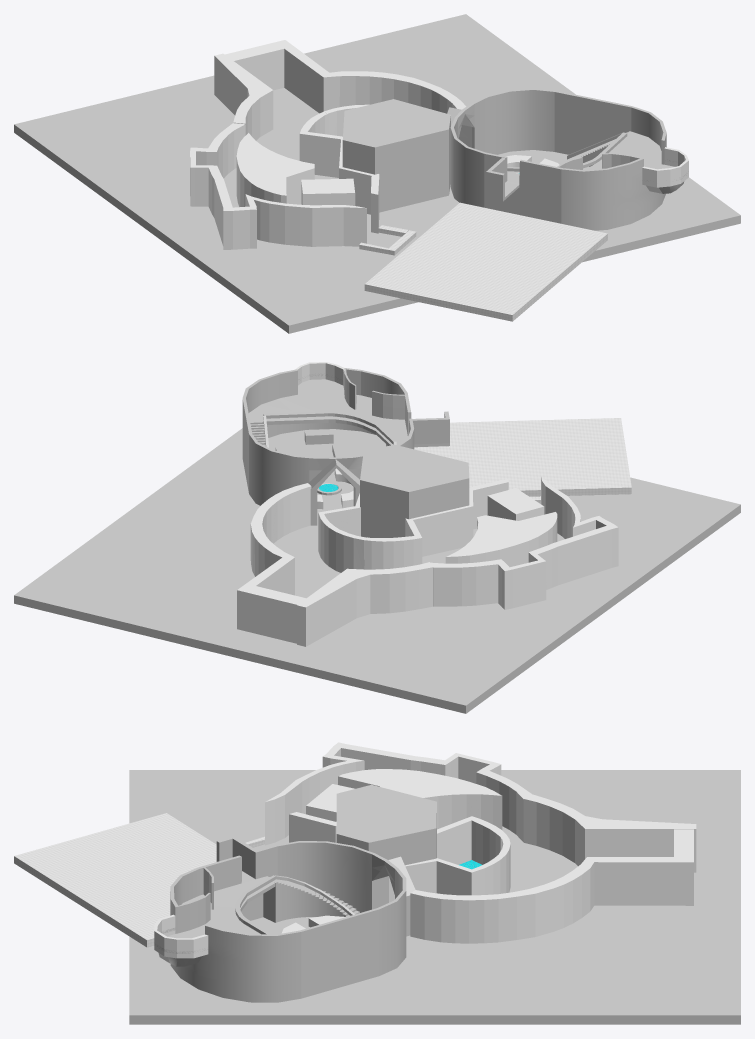
File: NEW Map Greybox Ver 1.1.fbx
3 renders of one model, top to bottom at view 1: azimuth 30°, elevation 25°; view 2: azimuth 150°, elevation 25°; view 3: azimuth 270°, elevation 25°, orthographic. The views are drawn at different scales.
Visible parts, largest first — view 1: Floor, Cathedral Form, Death Floor, Outer Mail Area, Facility, West Entrance, Mail Block, East Center Area, East Entrance, Entrance, Mail Room, Balcony Railway (+1 smaller); view 2: Floor, Cathedral Form, Death Floor, Outer Mail Area, Facility, East Entrance, East Center Area, West Entrance, Mail Block, Entrance, West Center Area, Mail Room (+4 smaller); view 3: Floor, Cathedral Form, West Entrance, Death Floor, Outer Mail Area, East Entrance, Facility, Mail Block, East Center Area, West Center Area, Curved Stairs, Balcony Railway (+4 smaller).
Part boxes in pixels (x1=…): Floor: x1=14, y1=14, x2=740, y2=333; Cathedral Form: x1=447, y1=88, x2=684, y2=230; Death Floor: x1=364, y1=202, x2=607, y2=321; Outer Mail Area: x1=190, y1=123, x2=366, y2=249; Facility: x1=342, y1=99, x2=450, y2=212; West Entrance: x1=278, y1=40, x2=466, y2=113; Mail Block: x1=236, y1=133, x2=314, y2=206; East Center Area: x1=299, y1=111, x2=379, y2=233; East Entrance: x1=214, y1=53, x2=273, y2=140; Entrance: x1=225, y1=40, x2=290, y2=90; Mail Room: x1=301, y1=178, x2=355, y2=205; Balcony Railway: x1=642, y1=147, x2=688, y2=187; Floor: x1=14, y1=428, x2=740, y2=713; Cathedral Form: x1=242, y1=368, x2=414, y2=525; Death Floor: x1=414, y1=418, x2=631, y2=496; Outer Mail Area: x1=430, y1=476, x2=618, y2=609; Facility: x1=360, y1=444, x2=469, y2=537; East Entrance: x1=297, y1=562, x2=433, y2=646; East Center Area: x1=364, y1=478, x2=508, y2=569; West Entrance: x1=237, y1=483, x2=311, y2=629; Mail Block: x1=445, y1=512, x2=557, y2=567; Entrance: x1=240, y1=584, x2=305, y2=643; West Center Area: x1=318, y1=493, x2=360, y2=572; Mail Room: x1=487, y1=488, x2=544, y2=520; Floor: x1=129, y1=770, x2=740, y2=1024; Cathedral Form: x1=158, y1=841, x2=415, y2=1002; West Entrance: x1=410, y1=857, x2=693, y2=943; Death Floor: x1=14, y1=813, x2=216, y2=947; Outer Mail Area: x1=265, y1=742, x2=532, y2=845; East Entrance: x1=523, y1=794, x2=696, y2=872; Facility: x1=336, y1=784, x2=436, y2=865; Mail Block: x1=338, y1=769, x2=502, y2=829; East Center Area: x1=289, y1=812, x2=508, y2=864; West Center Area: x1=389, y1=849, x2=509, y2=902; Curved Stairs: x1=263, y1=876, x2=359, y2=922; Balcony Railway: x1=154, y1=914, x2=208, y2=958.
Size of what is drawn, in the model's own units: 15758 by 2481 by 19732.
Materials: 5 (3 with a texture image).
